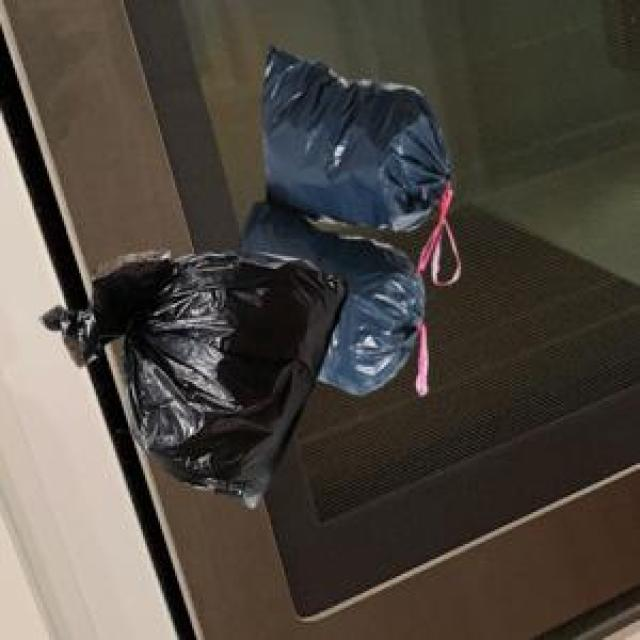waste: (44, 49, 451, 506)
